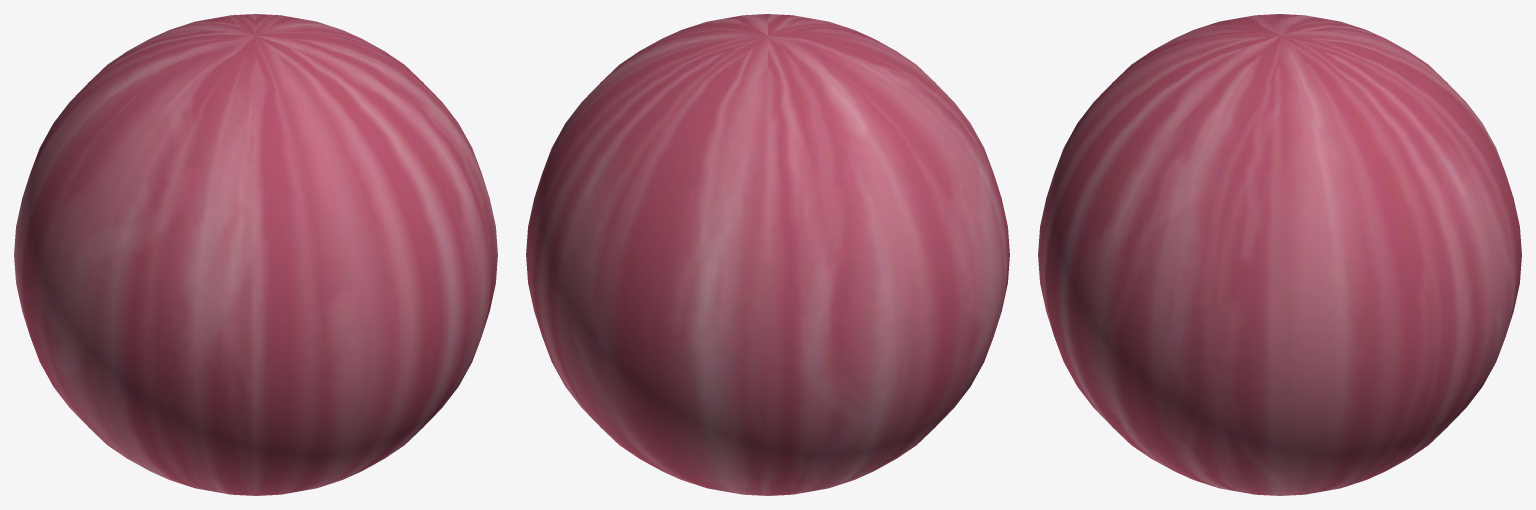
The model's file is bwg_ball__bwg_ball_pink.glb.
3 renders of one model, left to right at view 1: azimuth 30°, elevation 25°; view 2: azimuth 150°, elevation 25°; view 3: azimuth 270°, elevation 25°, orthographic.
Visible parts, largest first — view 1: polygon0; view 2: polygon0; view 3: polygon0.
Boxes of the visible parts, left/top/right/bottom form: polygon0: left=14, top=14, right=497, bottom=495; polygon0: left=526, top=14, right=1009, bottom=495; polygon0: left=1038, top=14, right=1521, bottom=495.
Bounding box in the file's own units: 2.18 × 2.18 × 2.18.
Materials: 1 (1 with a texture image).
